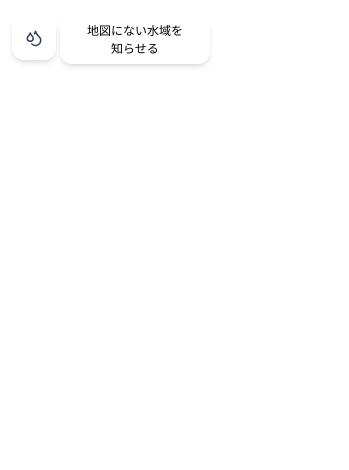
Scenario: 水域から選択・調査・情報提供 › 一覧をLeaflet操作列の通常フローに置く
Step 1. Click the button named "近くの水域を探す" → (34, 38), box x1=12 y1=16 x2=56 y2=60
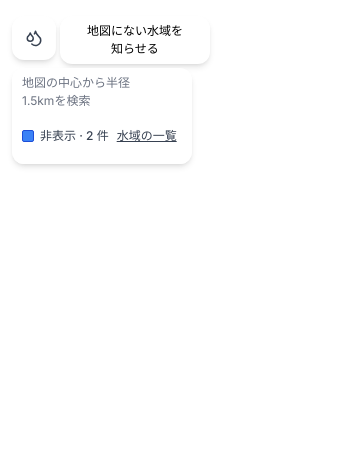
Now the button "水域の一覧" is shown
Step 2. Click the button "水域の一覧" → (147, 136), box x1=117 y1=114 x2=177 y2=158
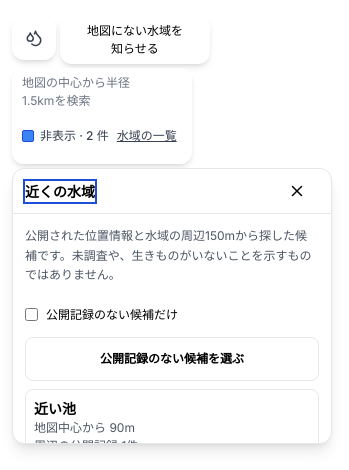
Now the element that starts with "近くの水域" is shown, box x1=12 y1=168 x2=332 y2=444
